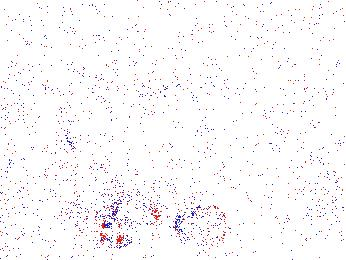flame jellyfish: (65, 113, 116, 177), (173, 204, 229, 255), (99, 194, 158, 237)
